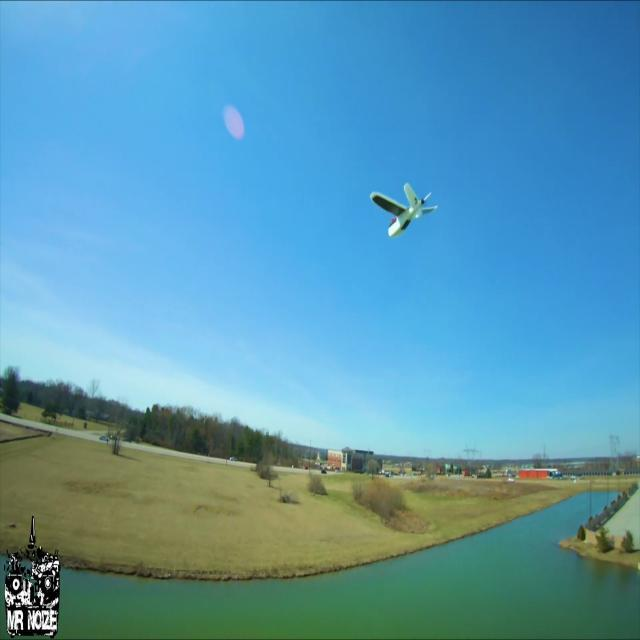iha: (404, 176, 406, 239)
